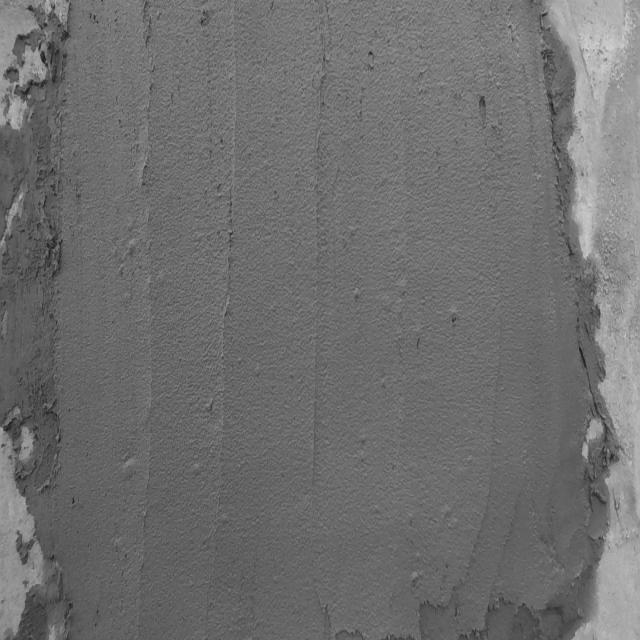trowels marks: (122, 32, 168, 626), (304, 41, 338, 531), (211, 6, 236, 530)
